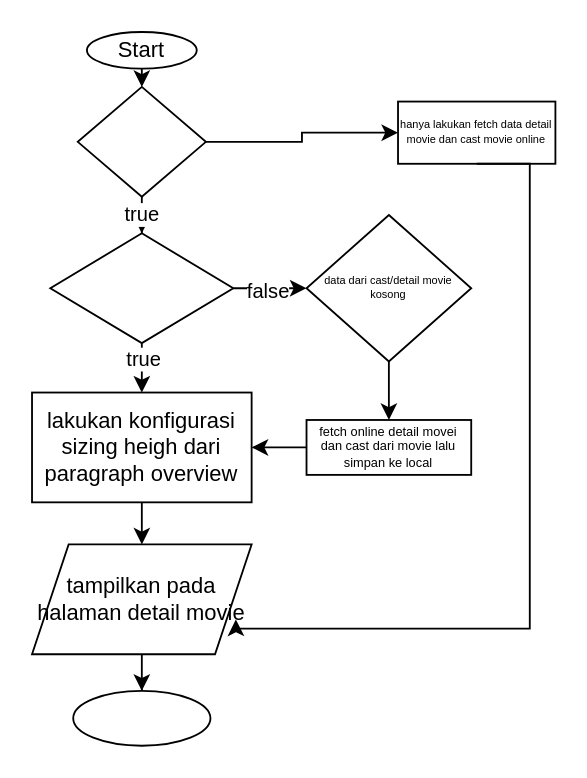
Image size: 587x778. Some labels were removed from this diagram. Here are the shapes that lost their labels. From the top down, the centre of each, then its label:
At (x=141, y=141): "cek ketersediaan item movie di local".
At (x=140, y=287): "cek ketersedian detail movie dan cast movie di local, pencarian berdasarkan ID".
At (x=140, y=717): "selesai".
